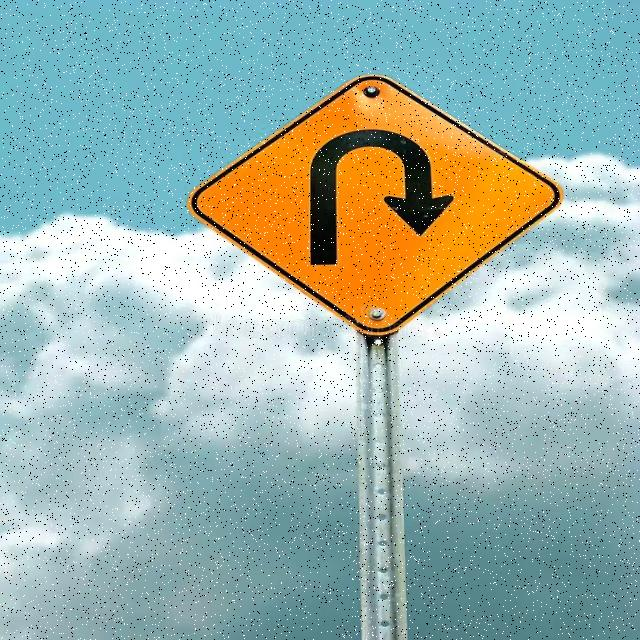Uturn: (190, 76, 560, 342)
